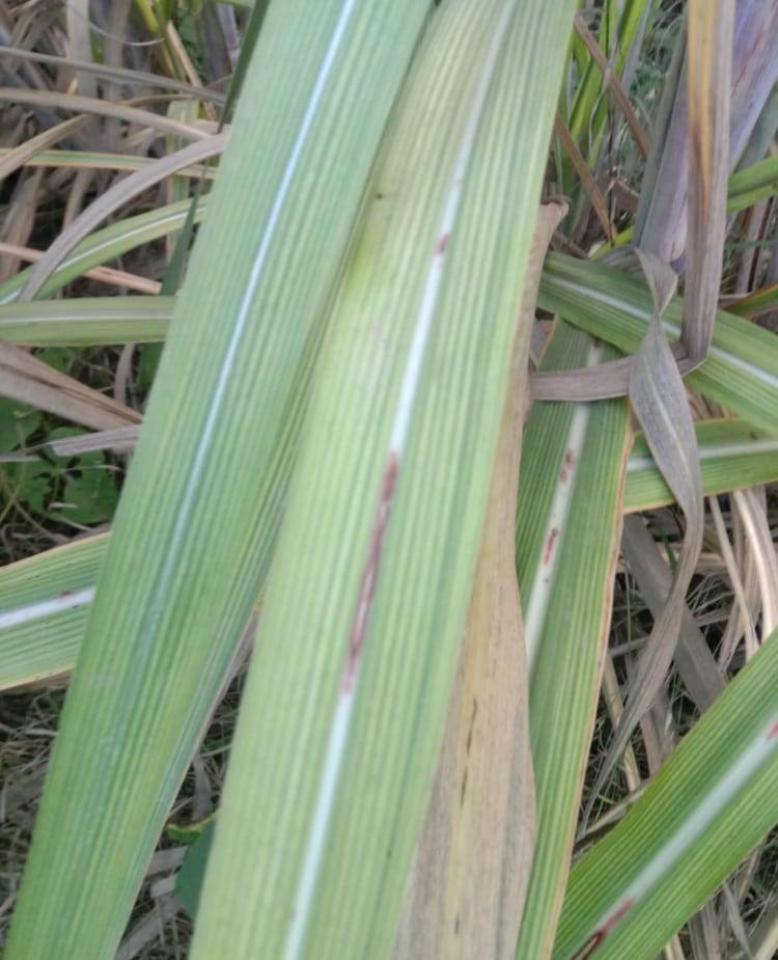RedRot: (342, 450, 400, 699), (570, 895, 636, 959), (543, 524, 561, 583), (435, 231, 453, 267), (560, 447, 575, 485), (764, 720, 777, 742)
